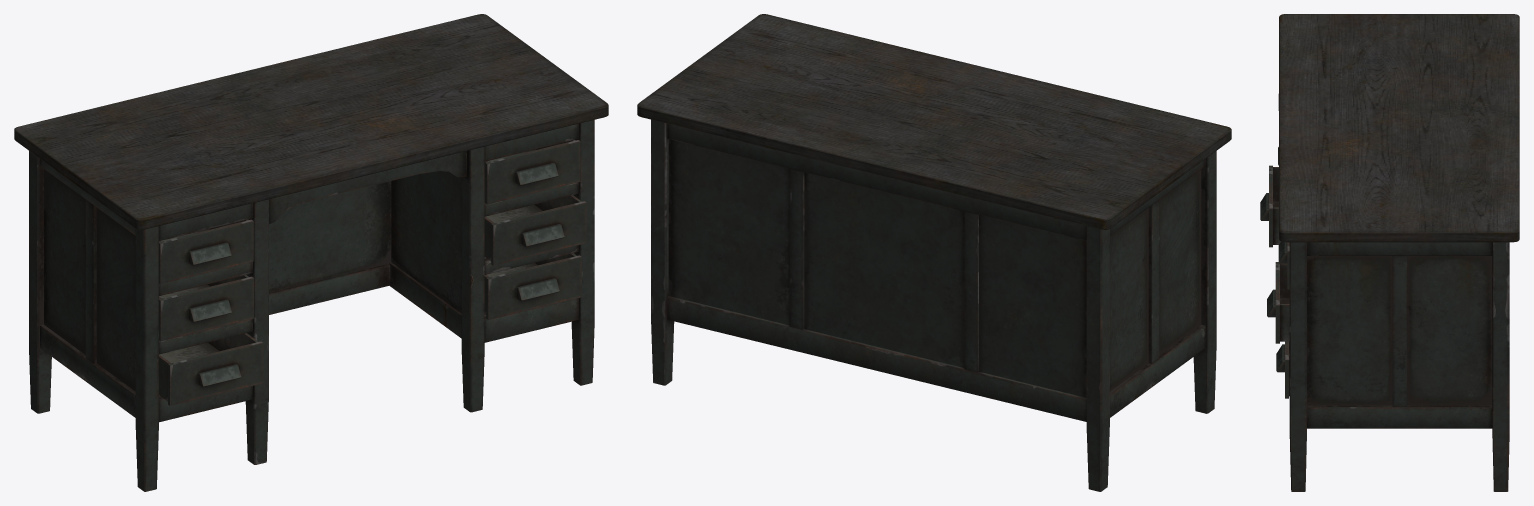
The model's file is DOCTOR TABLE.fbx.
The picture shows the model from 3 angles, left to right: view 1: azimuth 30°, elevation 25°; view 2: azimuth 150°, elevation 25°; view 3: azimuth 270°, elevation 25°; orthographic projection. The views are drawn at different scales.
Visible parts, largest first — view 1: object_0, object_1, object_1.006, object_1.001, object_1.003, object_1.005, object_1.002, object_1.004; view 2: object_1, object_0; view 3: object_1, object_0, object_1.001, object_1.006, object_1.003, object_1.002.
Part boxes in pixels (<box>): object_0: <box>29,120,594,491</box>; object_1: <box>14,14,608,396</box>; object_1.006: <box>159,333,263,405</box>; object_1.001: <box>484,195,586,265</box>; object_1.003: <box>484,253,581,319</box>; object_1.005: <box>158,275,253,341</box>; object_1.002: <box>484,140,580,204</box>; object_1.004: <box>158,219,253,284</box>; object_1: <box>637,14,1231,397</box>; object_0: <box>651,119,1216,491</box>; object_1: <box>1279,14,1519,242</box>; object_0: <box>1289,242,1509,491</box>; object_1.001: <box>1267,262,1289,343</box>; object_1.006: <box>1260,165,1280,247</box>; object_1.003: <box>1276,341,1289,398</box>; object_1.002: <box>1278,241,1289,289</box>.
Size of the model in its own units: 10 by 5.64 by 5.01.
2 materials, 2 textured.
